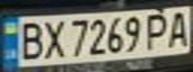2: (87, 16, 109, 56)
6: (106, 15, 127, 55)
7: (66, 16, 90, 58)
9: (121, 14, 148, 53)
A: (163, 8, 193, 48)
B: (12, 19, 48, 61)
P: (142, 10, 172, 51)
X: (39, 17, 69, 61)
